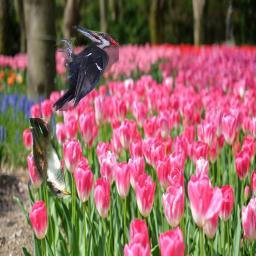Cuckoo: (29, 118, 71, 199)
Woodpecker: (52, 25, 119, 111)
